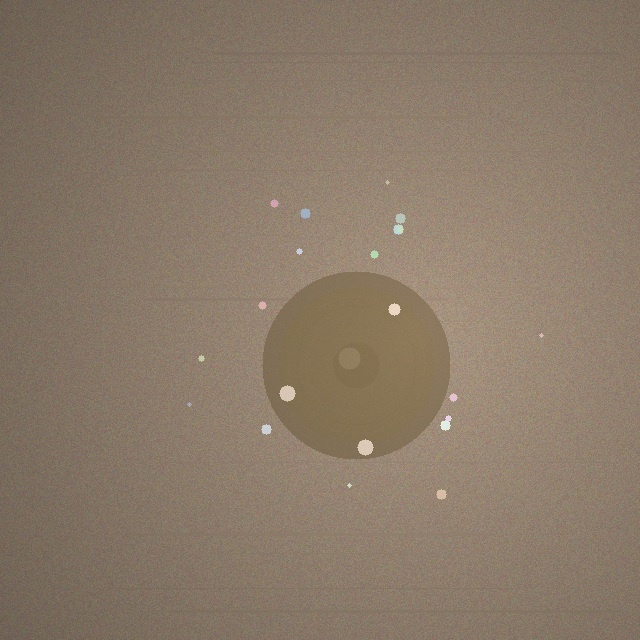overburn: (262, 271, 450, 459)
